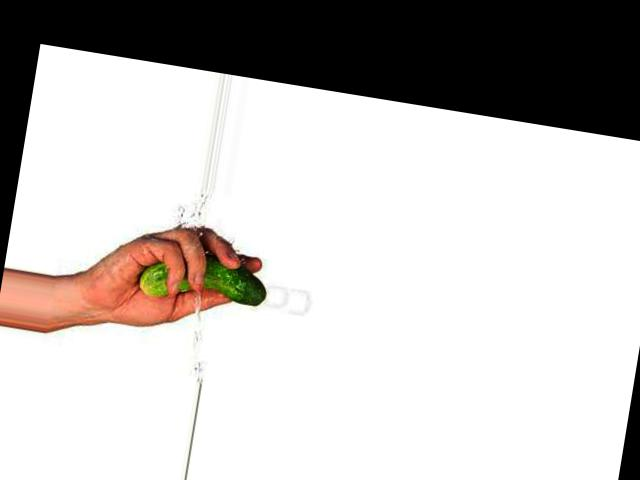cucumber: (138, 246, 271, 312)
